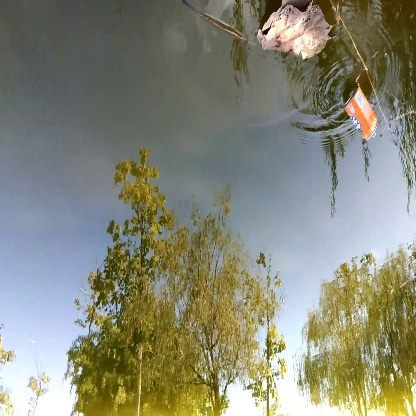bottle: (339, 82, 382, 145)
leaf: (244, 2, 338, 62)
